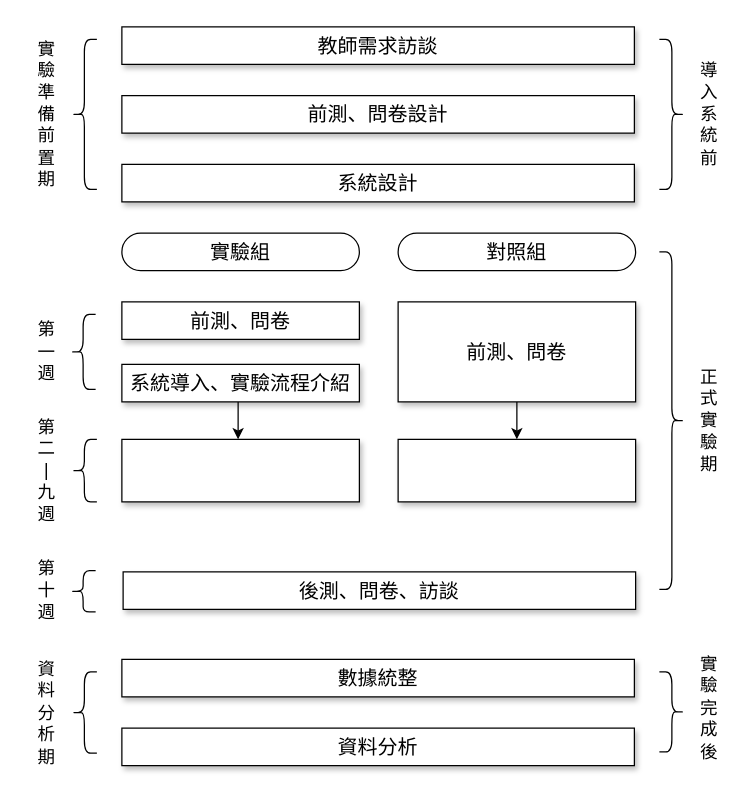
Some shapes in this 755 by 796 pixel diagram are drawn without their labels. Each missing label, with the centre of its shape:
"學習單 + 透過 AI 夥伴 (20分鐘/天，1天/週)" goes at pixel 241 472.
"學習單 + 透過 老師上課 (20分鐘/天，1天/週)" goes at pixel 517 472.
